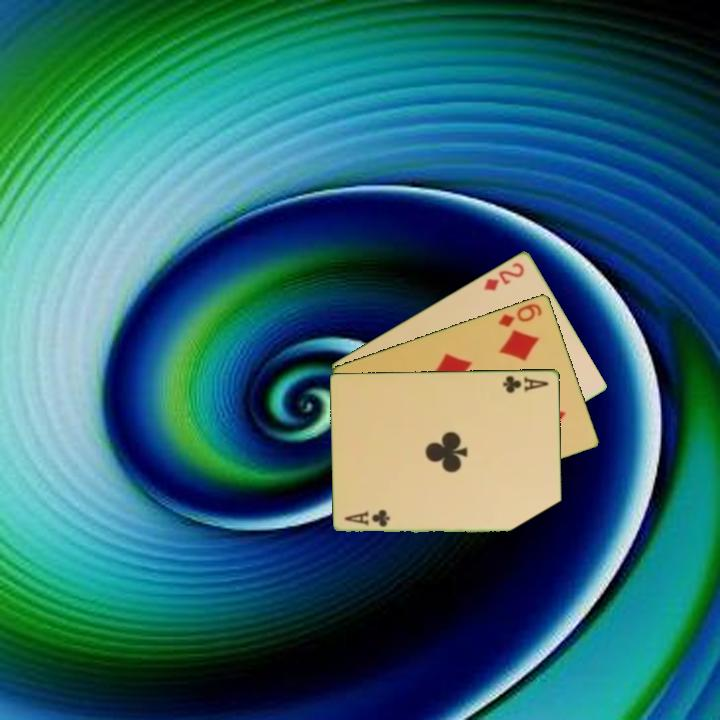2d: (480, 258, 527, 293)
6d: (495, 300, 545, 330)
Ac: (500, 372, 552, 396), (341, 507, 393, 529)
